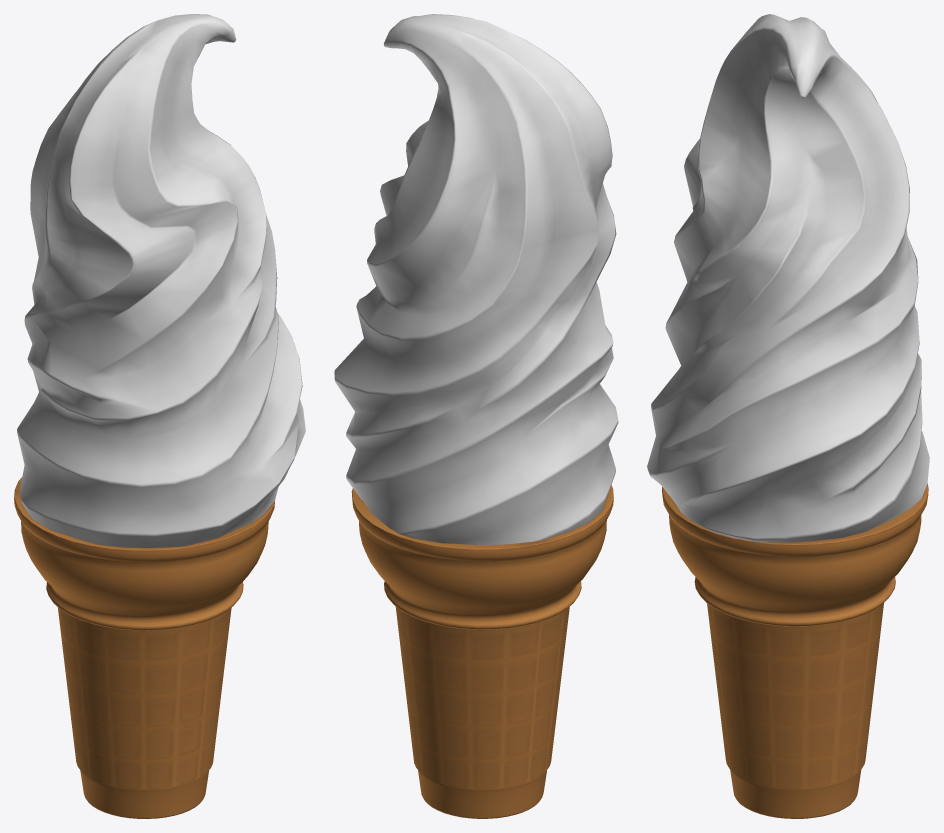
Rendered from IceCreamCone.dae.
3 renders of one model, left to right at view 1: azimuth 30°, elevation 25°; view 2: azimuth 150°, elevation 25°; view 3: azimuth 270°, elevation 25°, orthographic.
Visible parts, largest first — view 1: IceCreamOnCone; view 2: IceCreamOnCone; view 3: IceCreamOnCone.
Boxes of the visible parts, x1,y1,x2,y2 form: IceCreamOnCone: (14,14,305,818); IceCreamOnCone: (334,14,618,818); IceCreamOnCone: (647,14,929,818).
Size of the model in its own units: 2.4 by 7 by 2.3.
Materials: 1 (1 with a texture image).
